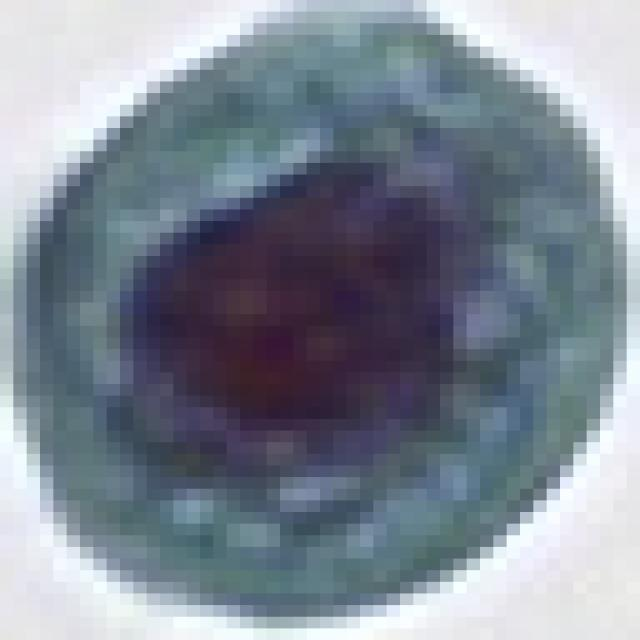nucleus: (75, 81, 517, 526)
